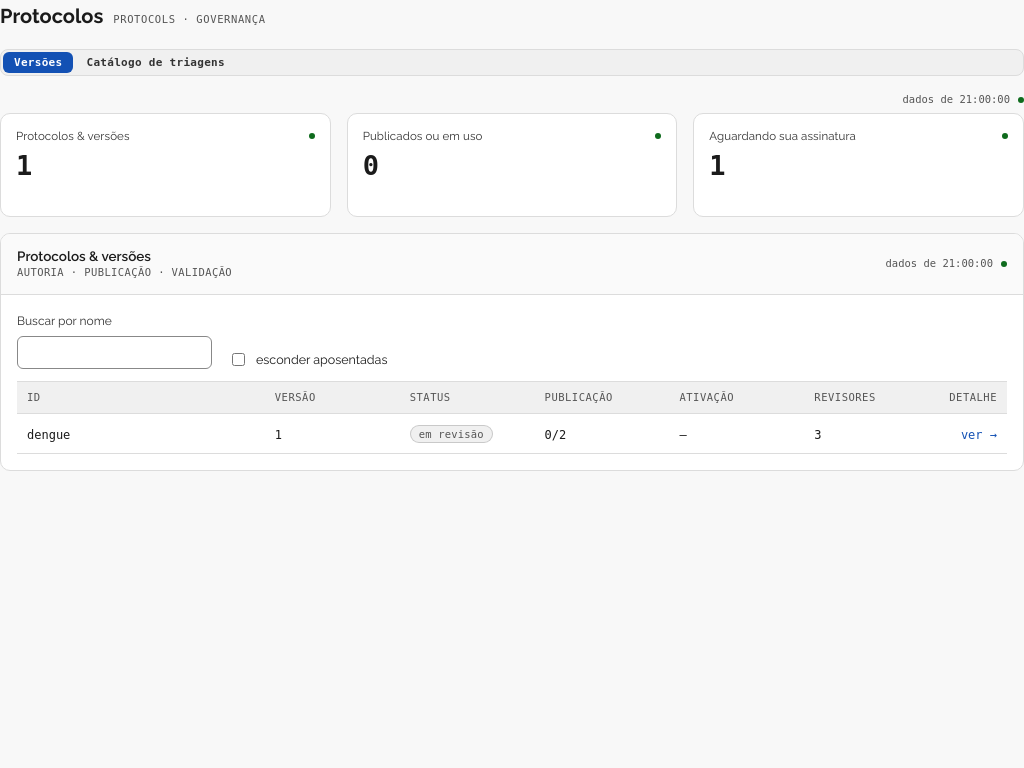
it: Protocols › revisor assina a publicação com step-up
Click the text "dengue" at (49, 435), box left=27, top=428, right=70, bottom=442
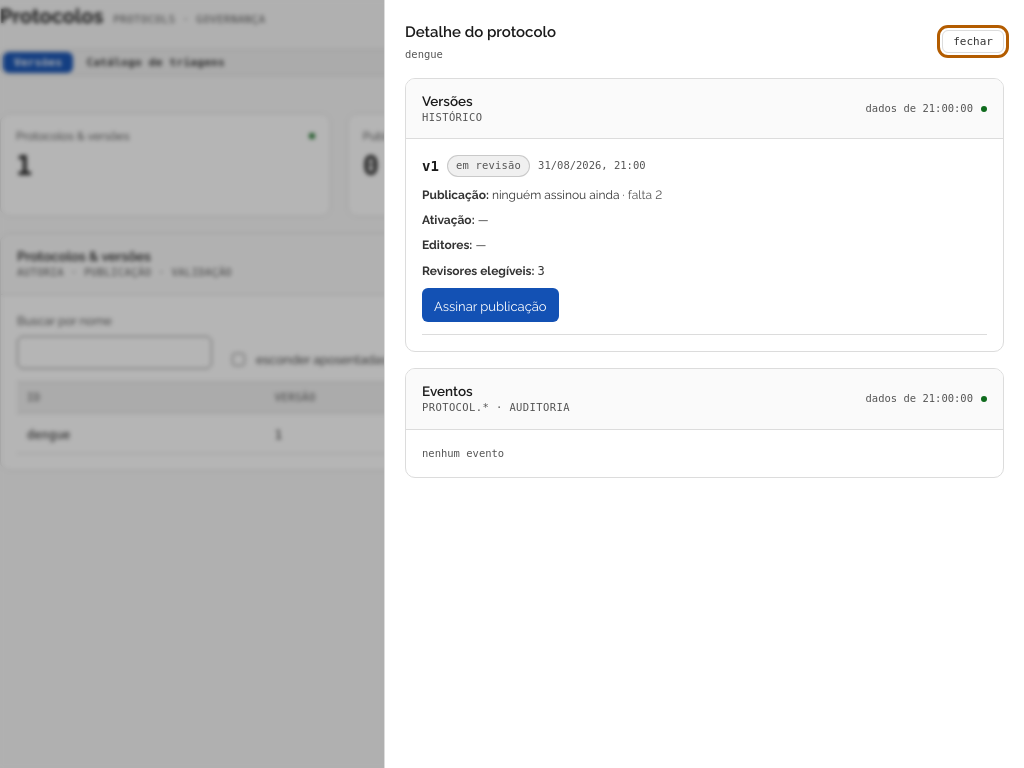
Click the button "Assinar publicação" at (490, 305), box left=422, top=288, right=559, bottom=322
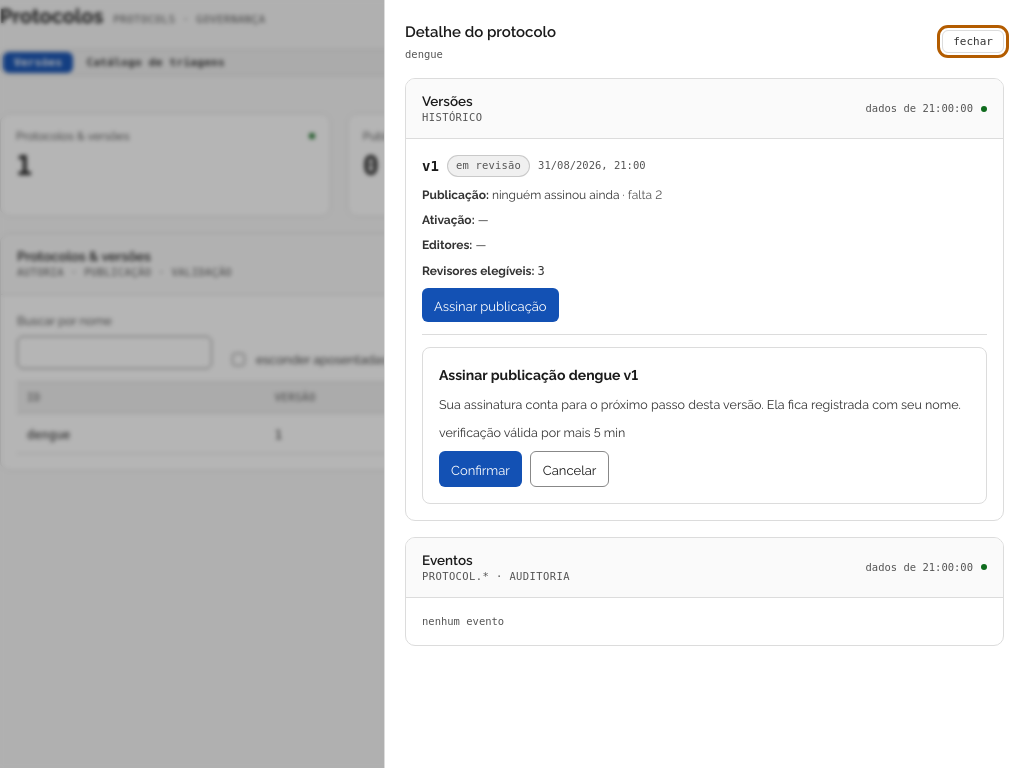
Click the button "Confirmar" at (480, 469), box left=439, top=451, right=522, bottom=487
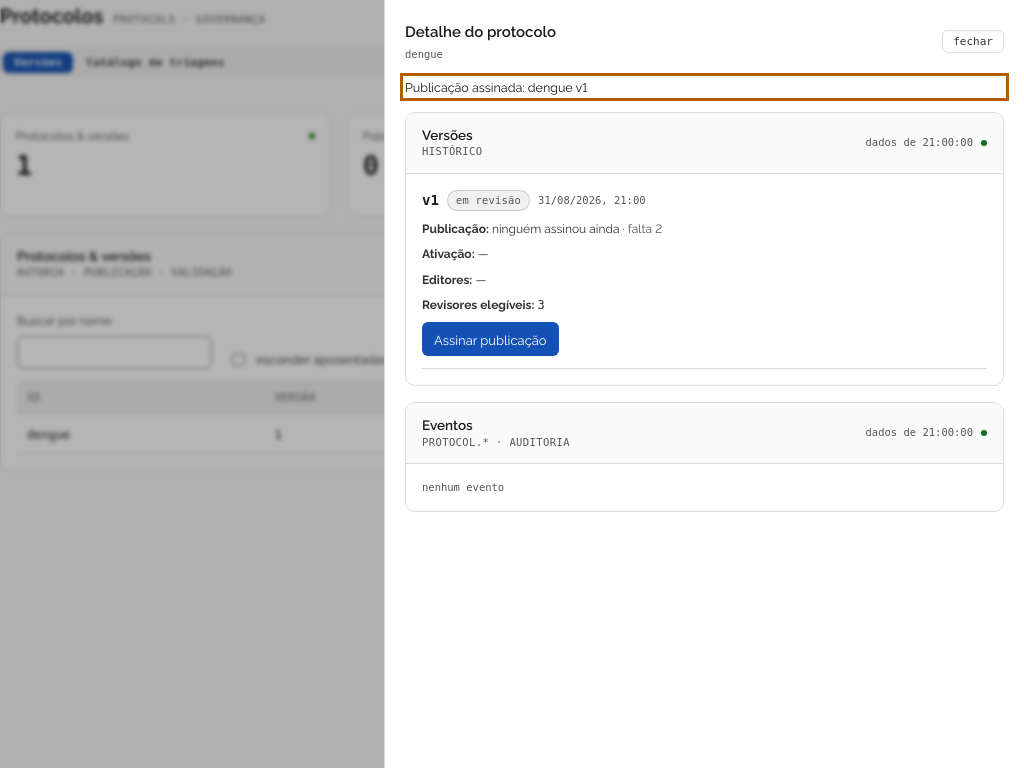
Expected: the message reads "Publicação assinada: dengue v1", left=405, top=78, right=587, bottom=95
